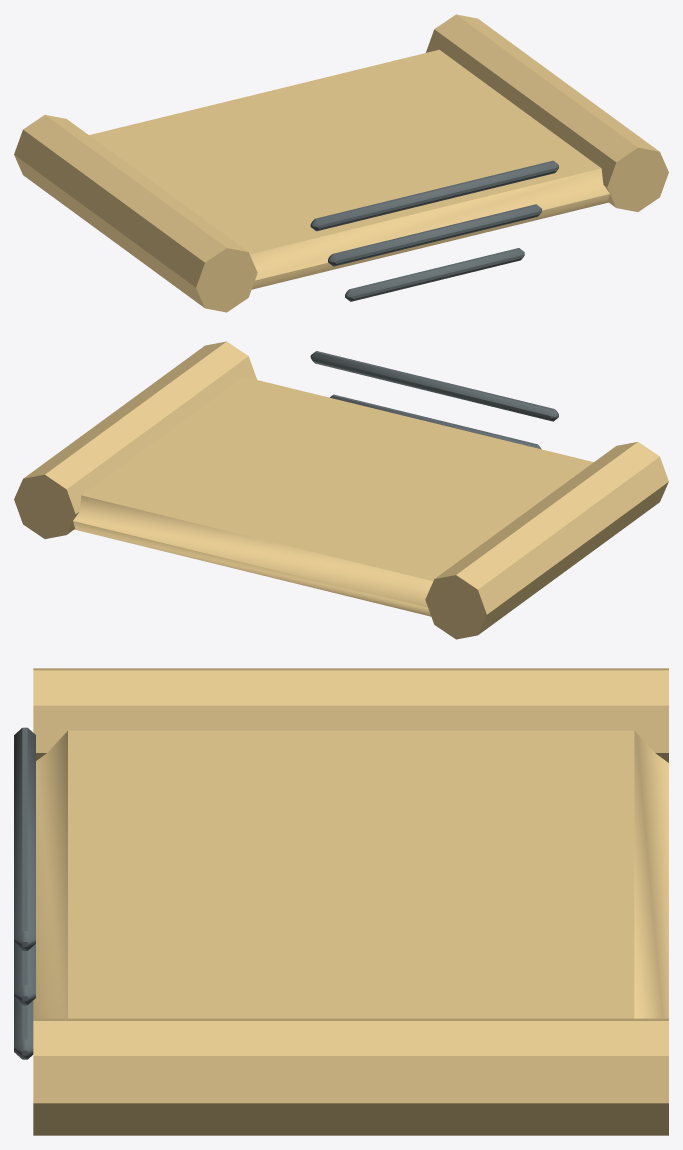
File: note.glb
3 renders of one model, top to bottom at view 1: azimuth 30°, elevation 25°; view 2: azimuth 150°, elevation 25°; view 3: azimuth 270°, elevation 25°, orthographic. The views are drawn at different scales.
Parts seen in each view (by area): view 1: NoteParchment, NoteRoll_-1, NoteRoll_1, NoteInk_0, NoteInk_1, NoteInk_2; view 2: NoteParchment, NoteRoll_-1, NoteRoll_1, NoteInk_0, NoteInk_1; view 3: NoteParchment, NoteRoll_1, NoteRoll_-1, NoteInk_0, NoteInk_1, NoteInk_2.
Part boxes in pixels (x1,y1,x2,y2): NoteParchment: (89, 49, 609, 289); NoteRoll_-1: (14, 115, 257, 312); NoteRoll_1: (426, 14, 668, 211); NoteInk_0: (310, 160, 558, 231); NoteInk_1: (328, 204, 541, 266); NoteInk_2: (345, 248, 524, 301); NoteParchment: (73, 376, 593, 616); NoteRoll_-1: (425, 442, 668, 639); NoteRoll_1: (14, 341, 256, 538); NoteInk_0: (310, 351, 558, 421); NoteInk_1: (330, 394, 541, 449); NoteParchment: (33, 730, 668, 1018); NoteRoll_1: (33, 1018, 668, 1135); NoteRoll_-1: (33, 668, 668, 762); NoteInk_0: (14, 727, 35, 950); NoteInk_1: (14, 944, 35, 1005); NoteInk_2: (14, 998, 33, 1059).
Size of the model in its own units: 0.69 by 0.126 by 0.474.
